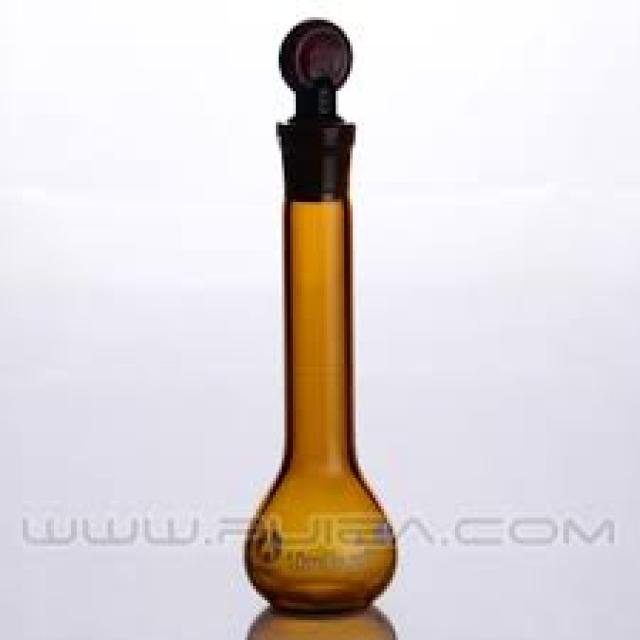glass: (245, 20, 393, 611)
